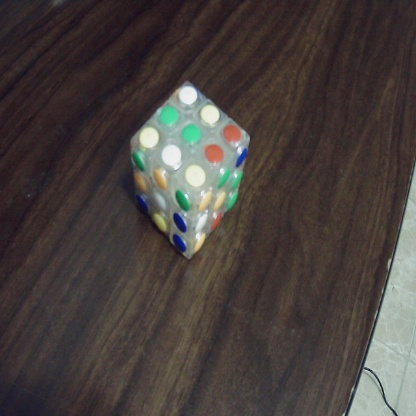Rubix Cube: (128, 82, 249, 261)
